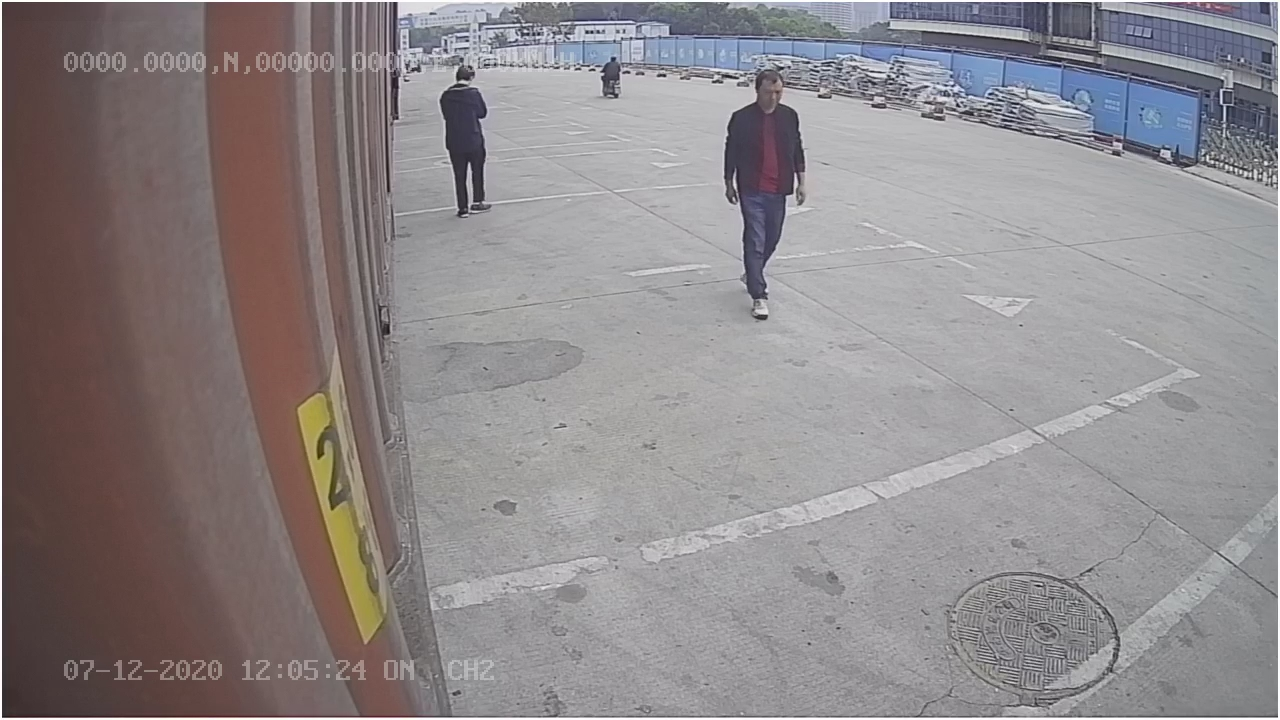person: (720, 64, 817, 324)
